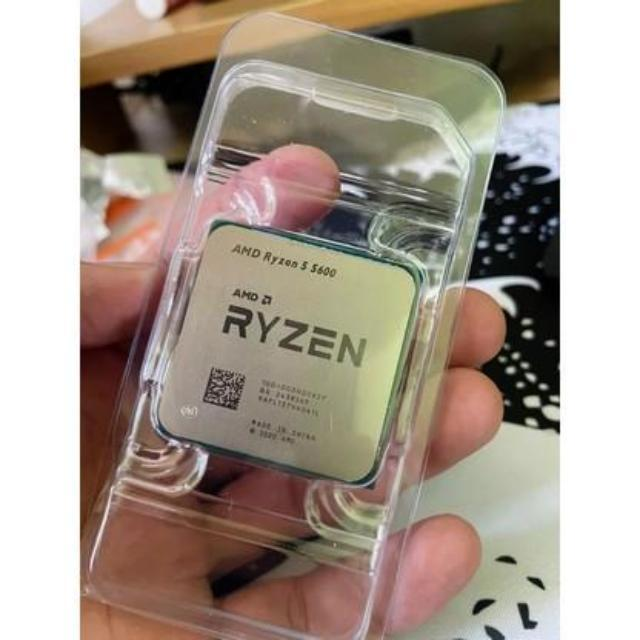CPU: (152, 223, 420, 485)
